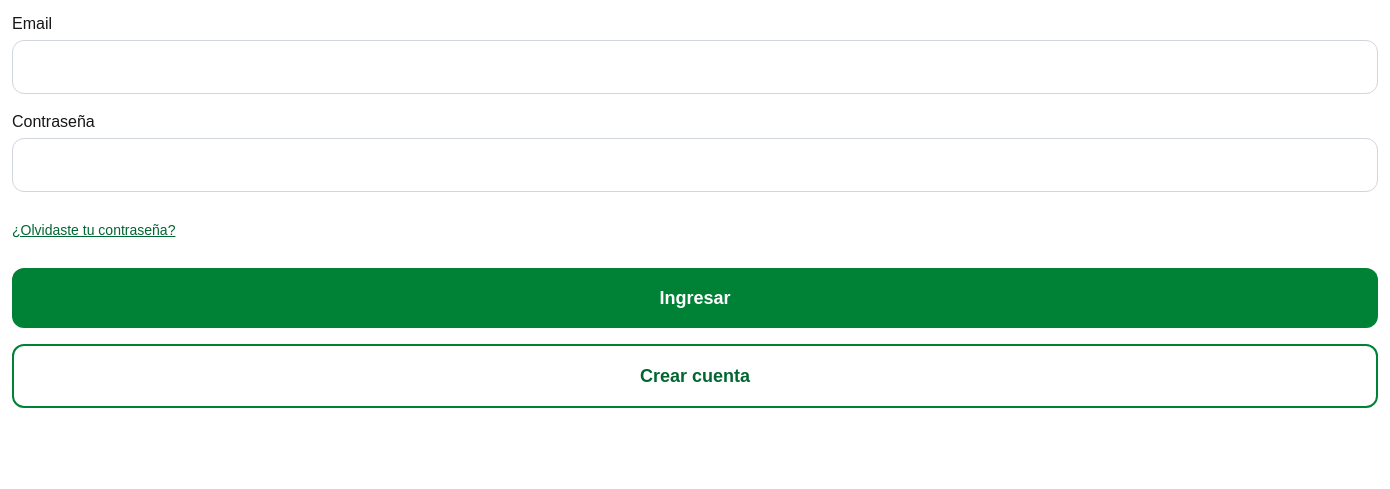
it: LoginForm › muestra error cuando signIn falla
In the field labelled "Email": (695, 67) x1=12 y1=40 x2=1378 y2=94, type "a@b.com"
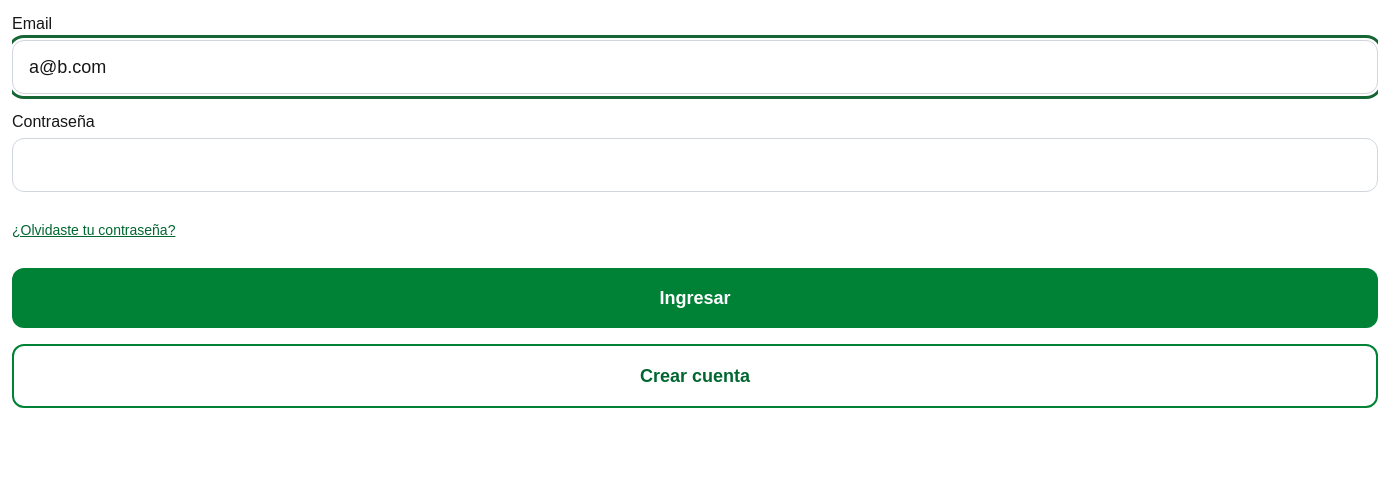
In the password field labelled "Contraseña": (695, 165) x1=12 y1=138 x2=1378 y2=192, type "12345678"
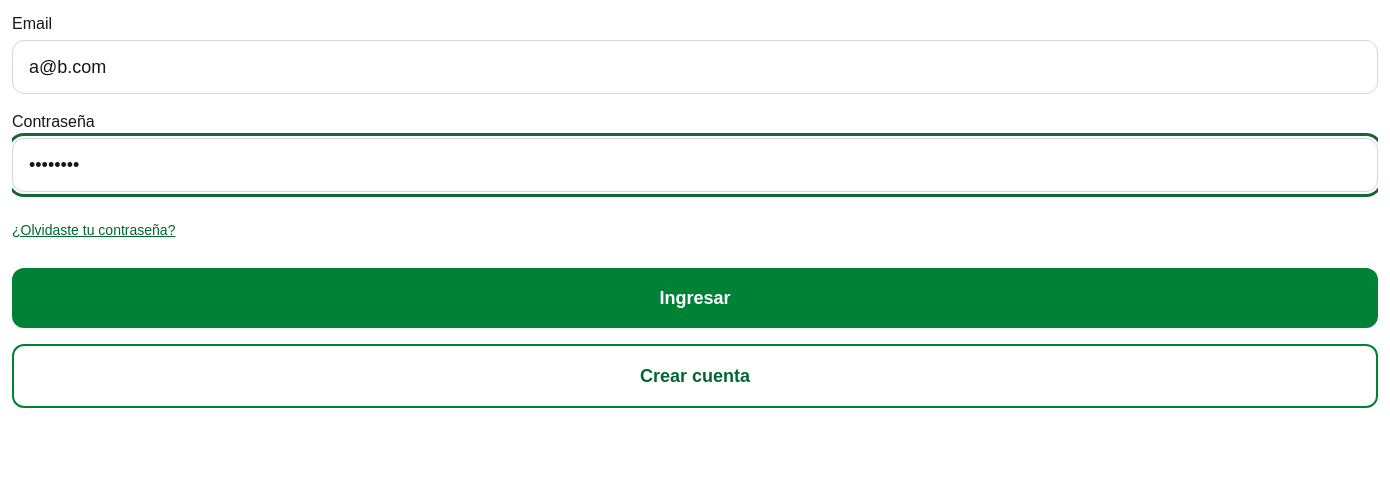
Click the button "Ingresar": (695, 298) x1=12 y1=268 x2=1378 y2=328
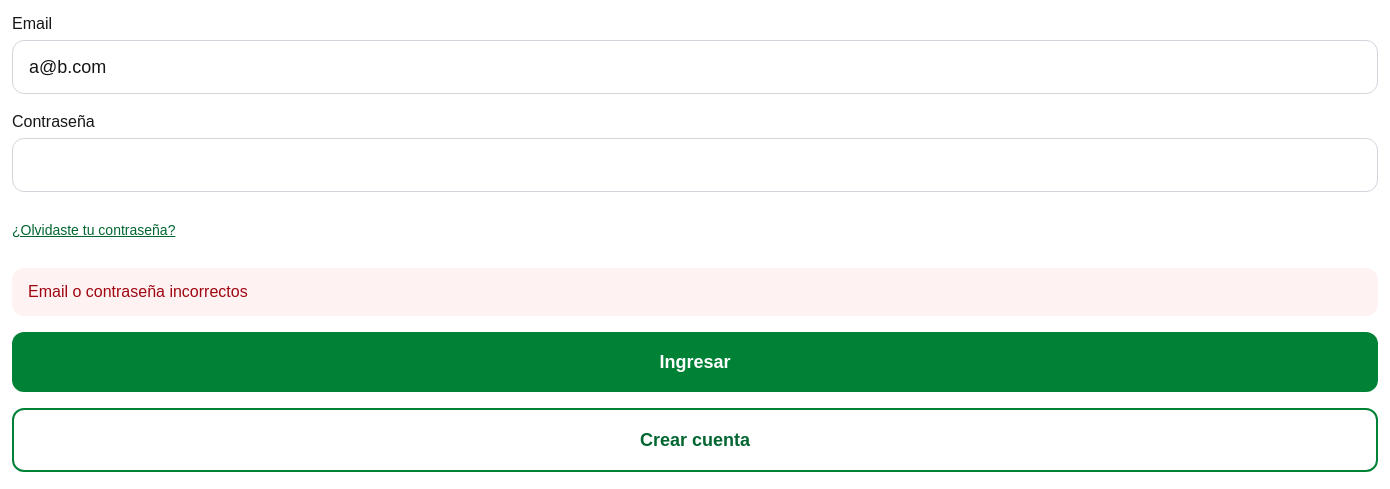
Expected: the message reads "Email o contraseña incorrectos", x1=28 y1=283 x2=248 y2=300
